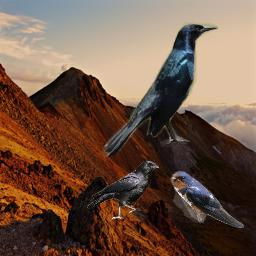Crow: (102, 22, 219, 158), (87, 160, 161, 221)
Swallow: (170, 171, 244, 228)
